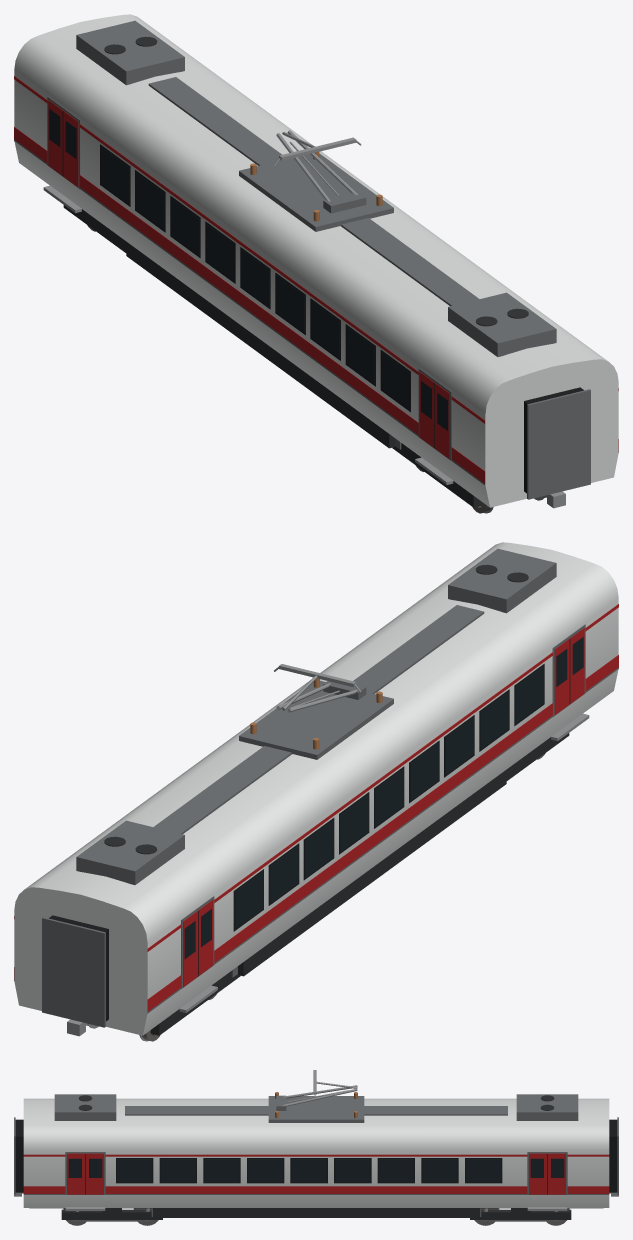
Rendered from RS_EMU_Motor.fbx.
3 renders of one model, top to bottom at view 1: azimuth 30°, elevation 25°; view 2: azimuth 150°, elevation 25°; view 3: azimuth 270°, elevation 25°, orthographic. The views are drawn at different scales.
Visible parts, largest first — view 1: EMU_Motor_Paint_White, EMU_Motor_Paint_Grey, EMU_Motor_Glass, EMU_Motor_Paint_Red, EMU_Motor_Underframe, EMU_Motor_Rubber, EMU_Motor_Steel; view 2: EMU_Motor_Paint_White, EMU_Motor_Paint_Grey, EMU_Motor_Glass, EMU_Motor_Paint_Red, EMU_Motor_Underframe, EMU_Motor_Rubber, EMU_Motor_Steel; view 3: EMU_Motor_Paint_White, EMU_Motor_Paint_Grey, EMU_Motor_Glass, EMU_Motor_Paint_Red, EMU_Motor_Underframe, EMU_Motor_Rubber, EMU_Motor_Steel, EMU_Motor_Wheel.
Boxes of the visible parts, x1,y1,x2,y2 form: EMU_Motor_Paint_White: [14, 14, 618, 507]; EMU_Motor_Paint_Grey: [14, 20, 618, 507]; EMU_Motor_Glass: [49, 109, 448, 430]; EMU_Motor_Paint_Red: [14, 76, 618, 483]; EMU_Motor_Underframe: [63, 36, 528, 507]; EMU_Motor_Rubber: [62, 111, 583, 493]; EMU_Motor_Steel: [43, 130, 565, 513]; EMU_Motor_Paint_White: [14, 542, 618, 1035]; EMU_Motor_Paint_Grey: [14, 548, 618, 1035]; EMU_Motor_Glass: [184, 637, 583, 958]; EMU_Motor_Paint_Red: [14, 604, 618, 1011]; EMU_Motor_Underframe: [104, 564, 569, 1035]; EMU_Motor_Rubber: [49, 639, 570, 1021]; EMU_Motor_Steel: [67, 664, 589, 1041]; EMU_Motor_Paint_White: [23, 1098, 609, 1207]; EMU_Motor_Paint_Grey: [14, 1094, 618, 1221]; EMU_Motor_Glass: [68, 1158, 564, 1182]; EMU_Motor_Paint_Red: [23, 1153, 609, 1194]; EMU_Motor_Underframe: [29, 1095, 603, 1219]; EMU_Motor_Rubber: [15, 1119, 617, 1194]; EMU_Motor_Steel: [14, 1070, 618, 1220]; EMU_Motor_Wheel: [64, 1208, 568, 1225].
Bounding box in the file's own units: 3.64 × 5.31 × 21.5.
